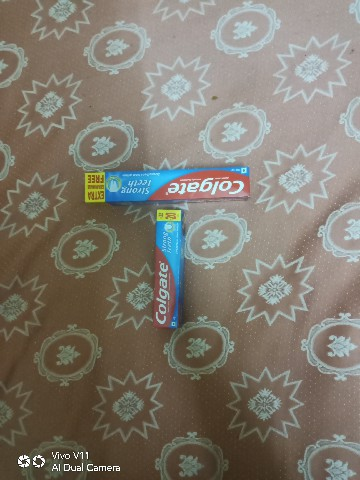colgatetoothpaste big: (70, 162, 284, 210)
colgatetoothpaste small: (144, 202, 195, 349)
